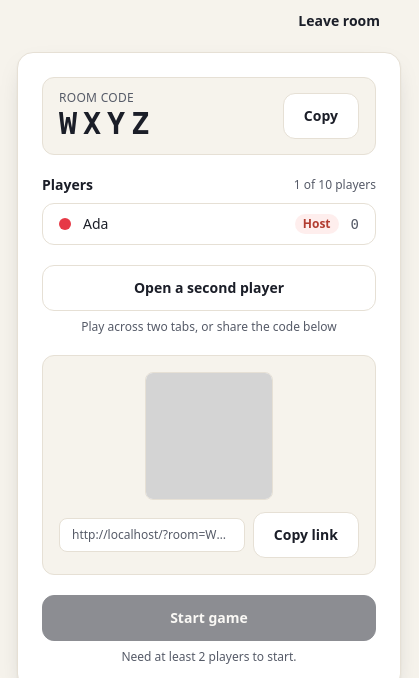
Test: Lobby › copies the room code and shows a confirmation
Click the button "Copy" at (321, 116), box [283, 93, 359, 139]
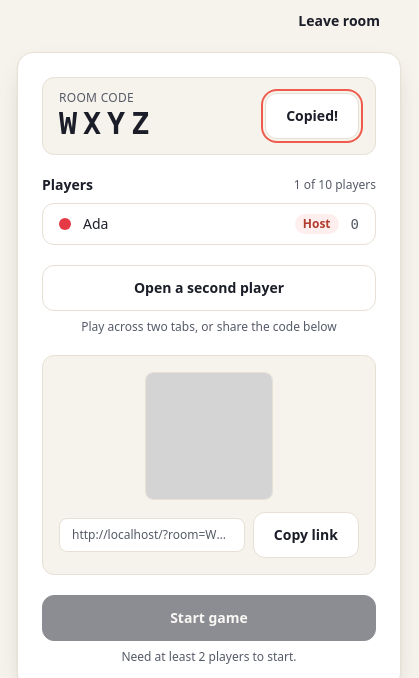
Now the button "Copied!" is shown, box [265, 93, 359, 139]
